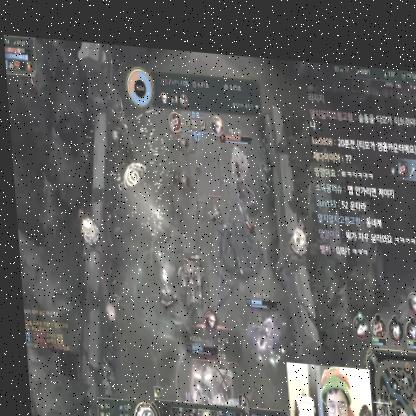streamer: (301, 358, 364, 416)
